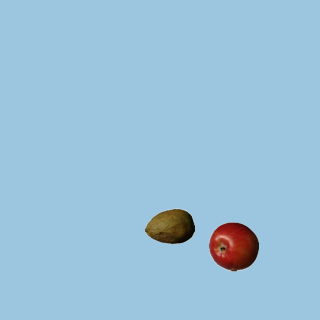Apple Braeburn: (208, 221, 258, 271)
Papaya: (144, 201, 194, 251)
